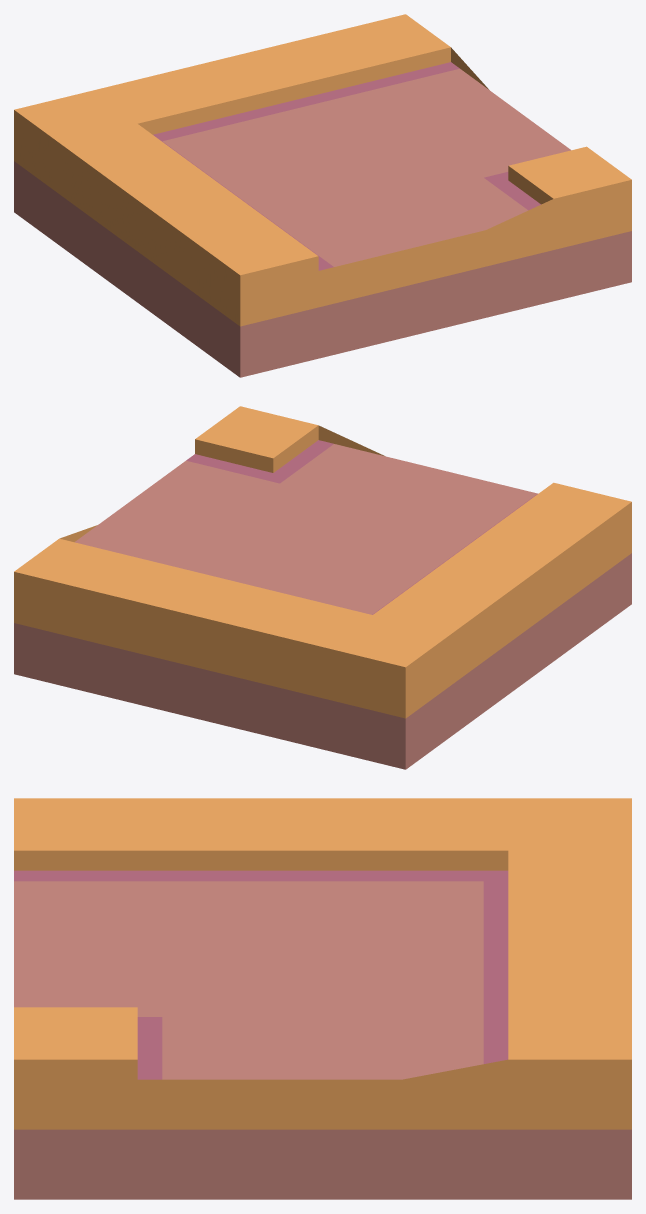
File: Right.fbx
3 views of the same model, one above another, from view 1: azimuth 30°, elevation 25°; view 2: azimuth 150°, elevation 25°; view 3: azimuth 270°, elevation 25° (orthographic). The views are drawn at different scales.
Parts seen in each view (by area): view 1: Right; view 2: Right; view 3: Right.
Boxes of the visible parts, <box> form: Right: <box>14,14,631,377</box>; Right: <box>14,406,631,769</box>; Right: <box>14,798,631,1199</box>.
Bounding box in the file's own units: 2 × 0.5 × 2.
